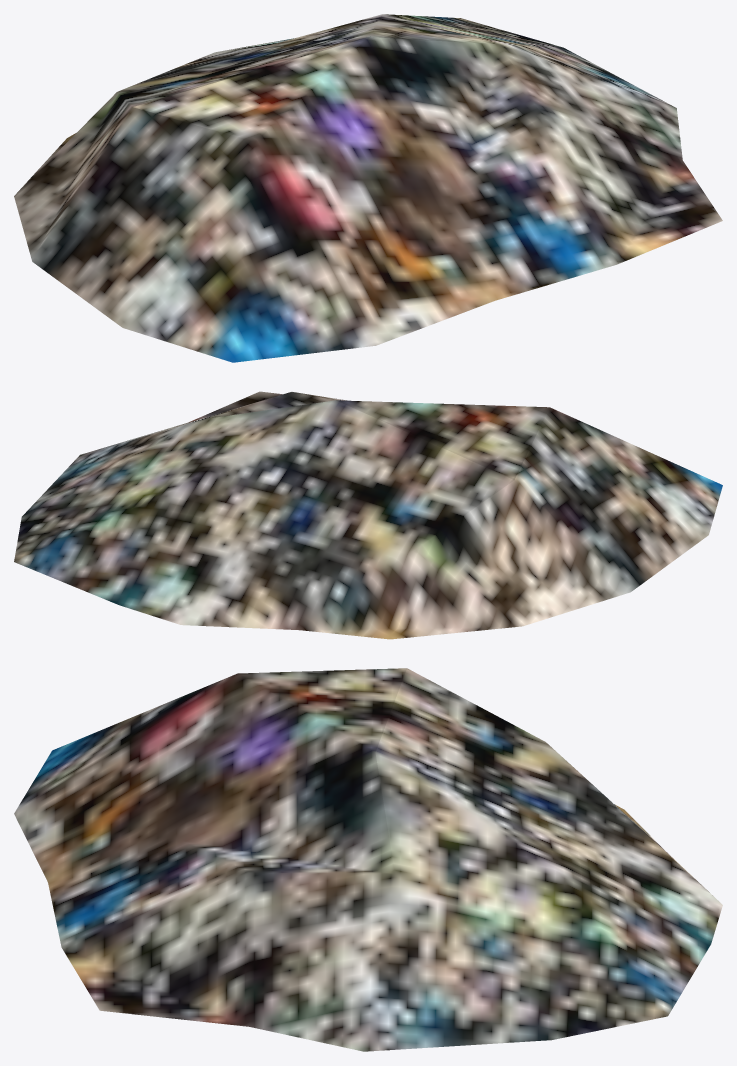
File: psx_industrial_pack_pile_trash.glb
The picture shows the model from 3 angles, top to bottom: view 1: azimuth 30°, elevation 25°; view 2: azimuth 150°, elevation 25°; view 3: azimuth 270°, elevation 25°; orthographic projection. The views are drawn at different scales.
Visible parts, largest first — view 1: PileTrash; view 2: PileTrash; view 3: PileTrash.
Boxes of the visible parts, left/top/right/bottom form: PileTrash: left=14, top=14, right=722, bottom=362; PileTrash: left=14, top=391, right=722, bottom=639; PileTrash: left=14, top=668, right=722, bottom=1051.
Bounding box in the file's own units: 1.84 × 0.3953 × 1.69.
Materials: 1 (1 with a texture image).
